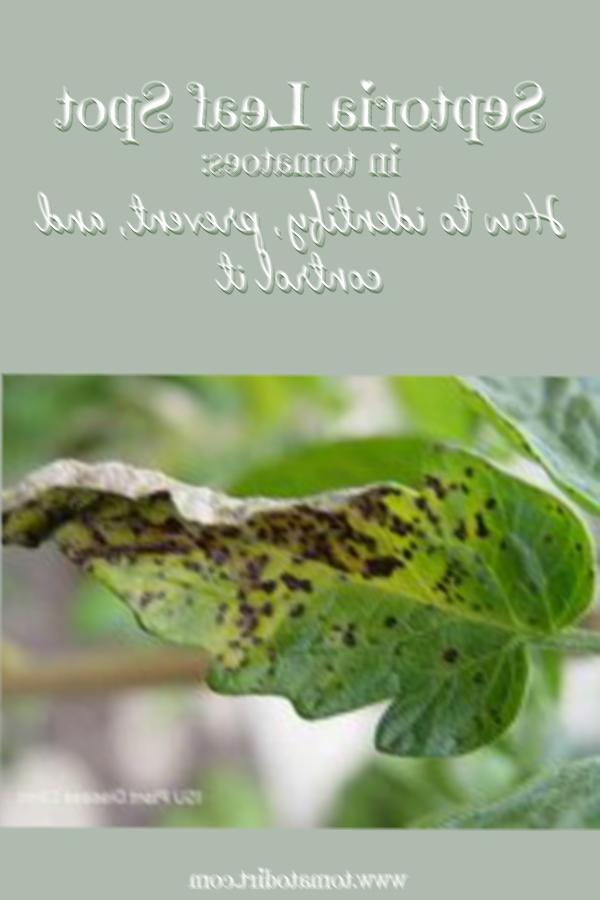Tomato Septoria leaf spot: (0, 437, 590, 766)
